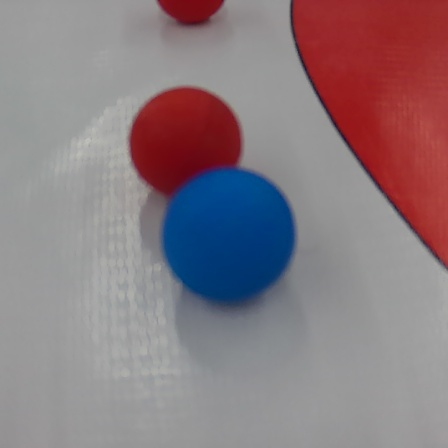blue: (161, 165, 296, 307)
red: (130, 82, 244, 198), (156, 0, 224, 32)
red_base: (288, 2, 448, 278)
